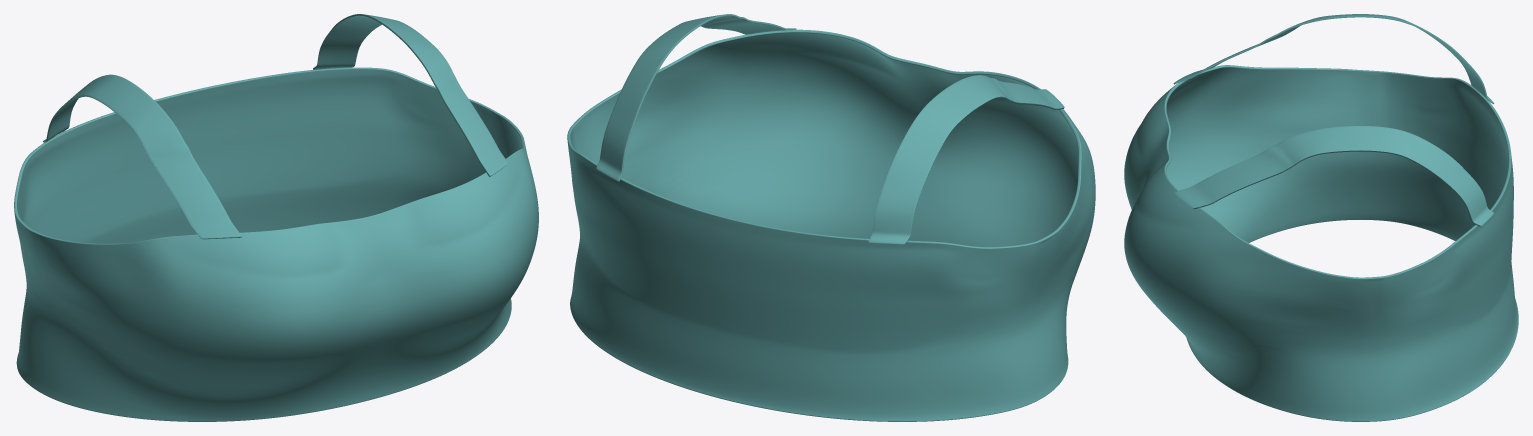
Rendered from Feminine-tank-top.glb.
The picture shows the model from 3 angles, left to right: view 1: azimuth 30°, elevation 25°; view 2: azimuth 150°, elevation 25°; view 3: azimuth 270°, elevation 25°; orthographic projection. The views are drawn at different scales.
Visible parts, largest first — view 1: Clothing / tank body, Clothing / Tank sewn strap201 -1, Clothing / Tank sewn strap201 1; view 2: Clothing / tank body, Clothing / Tank sewn strap201 -1, Clothing / Tank sewn strap201 1; view 3: Clothing / tank body, Clothing / Tank sewn strap201 1, Clothing / Tank sewn strap201 -1.
Part boxes in pixels (box(x1,y1,x2,y2)): Clothing / tank body: box(14, 67, 538, 421); Clothing / Tank sewn strap201 -1: box(43, 74, 241, 239); Clothing / Tank sewn strap201 1: box(313, 14, 508, 176); Clothing / tank body: box(567, 29, 1095, 421); Clothing / Tank sewn strap201 -1: box(868, 75, 1064, 244); Clothing / Tank sewn strap201 1: box(596, 14, 796, 181); Clothing / tank body: box(1124, 65, 1518, 421); Clothing / Tank sewn strap201 1: box(1173, 126, 1494, 226); Clothing / Tank sewn strap201 -1: box(1173, 14, 1494, 103).
Bounding box in the file's own units: 0.6211 × 0.3463 × 0.4955.
